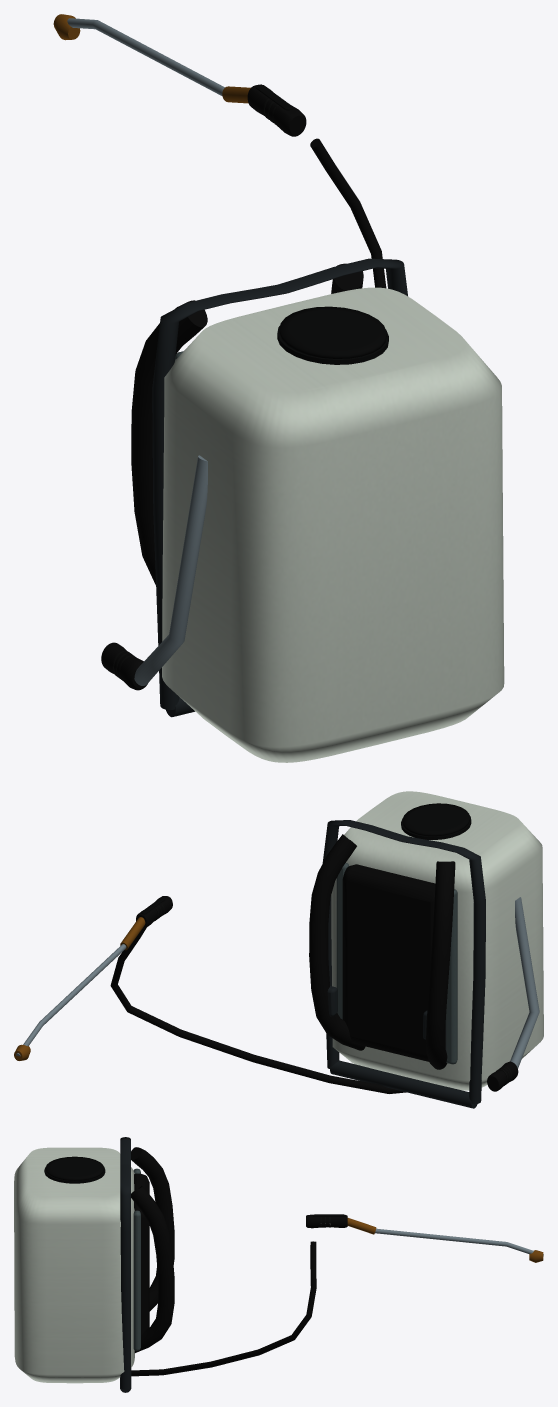
The model's file is BackpackSprayer.gltf.
The picture shows the model from 3 angles, top to bottom: view 1: azimuth 30°, elevation 25°; view 2: azimuth 150°, elevation 25°; view 3: azimuth 270°, elevation 25°; orthographic projection. The views are drawn at different scales.
Visible parts, largest first — view 1: BackpackSprayer__Body; view 2: BackpackSprayer__Body; view 3: BackpackSprayer__Body.
Boxes of the visible parts, <box> form: BackpackSprayer__Body: <box>53,14,504,762</box>; BackpackSprayer__Body: <box>14,791,543,1108</box>; BackpackSprayer__Body: <box>14,1137,543,1392</box>.
Bounding box in the file's own units: 0.6193 × 0.5485 × 1.26.
Materials: 1 (1 with a texture image).
